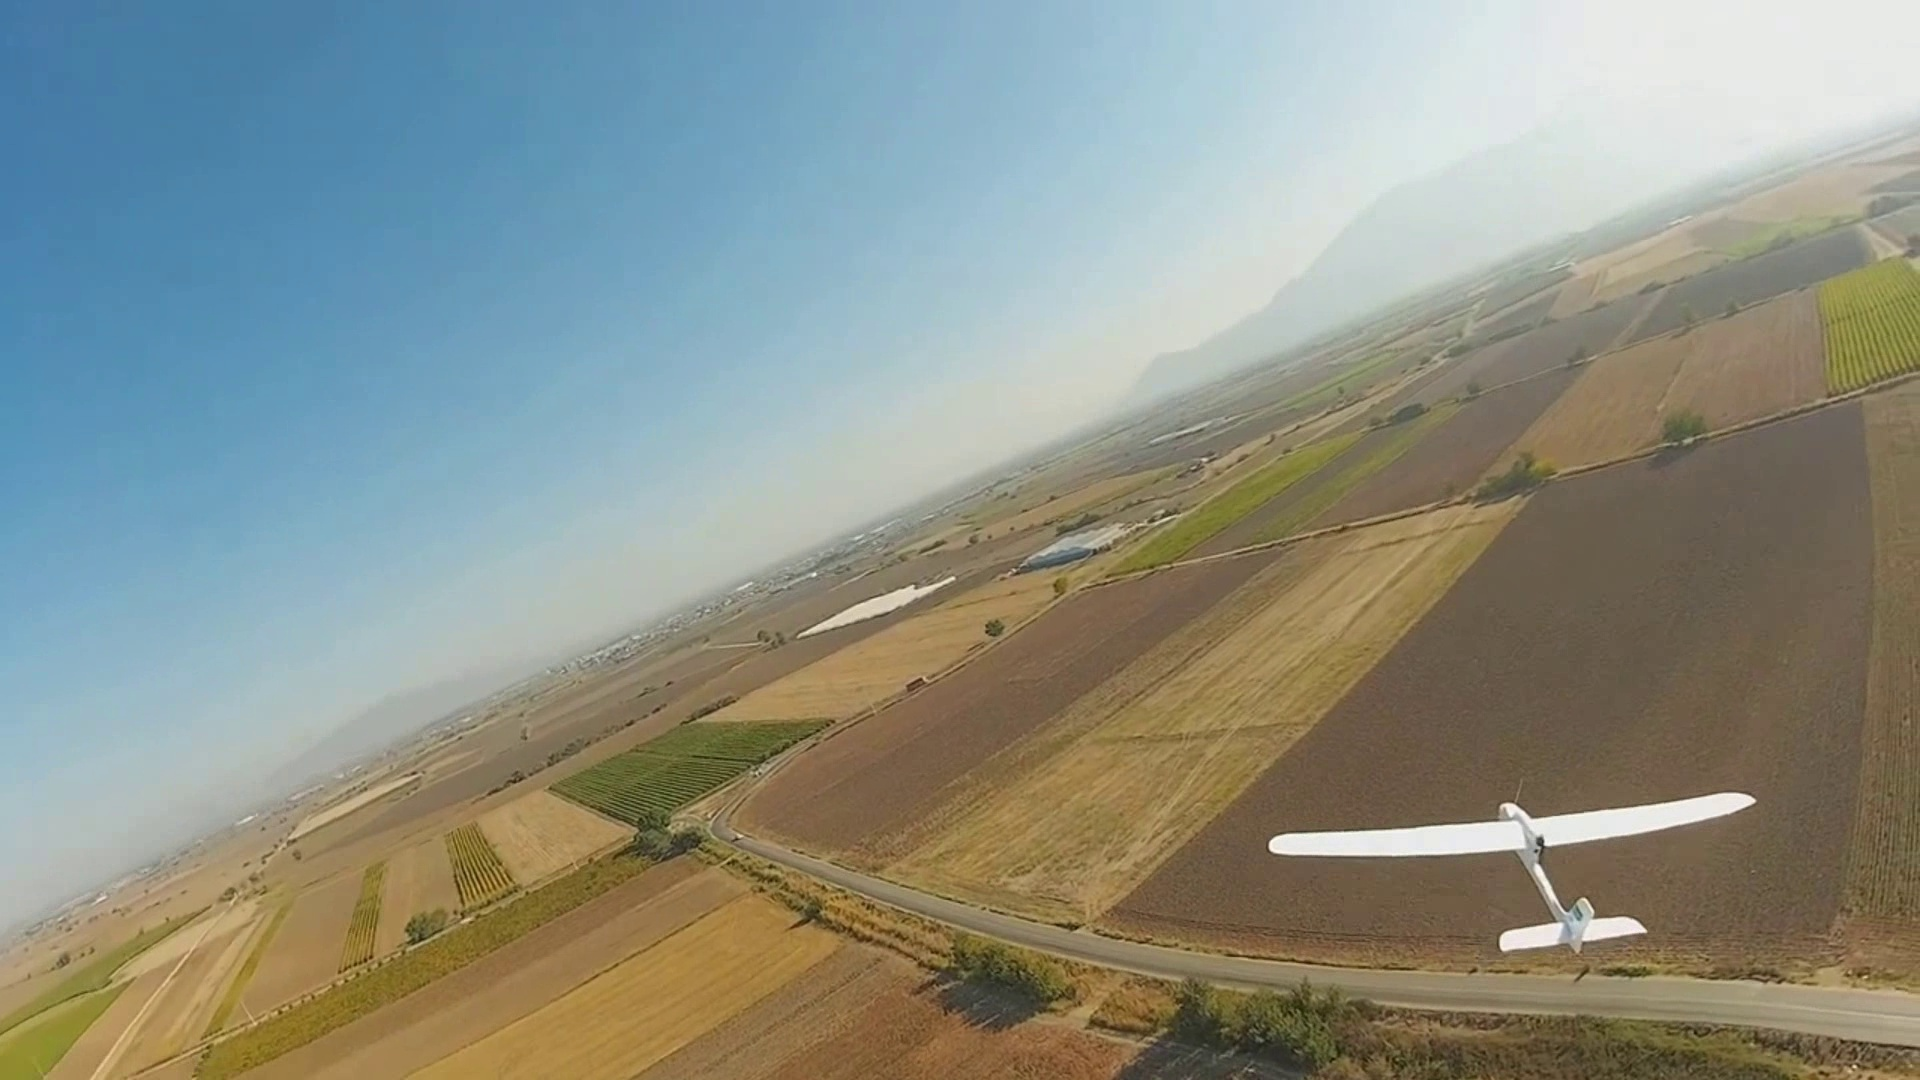airplane: (1267, 791, 1755, 965)
